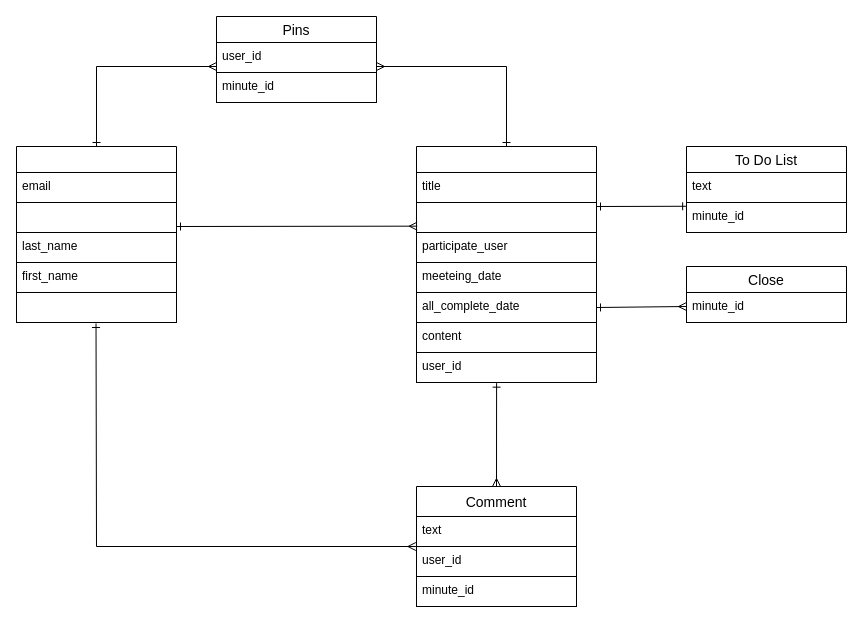
The diagram is 863 pixels wide and 623 high, and some of its shapes have lost their labels. The centre of each missing label's shape, as x and y in pixels:
"emplyee_number" goes at (x=96, y=307).
"encrypted_password" goes at (x=96, y=217).
"project_name" goes at (x=506, y=217).
